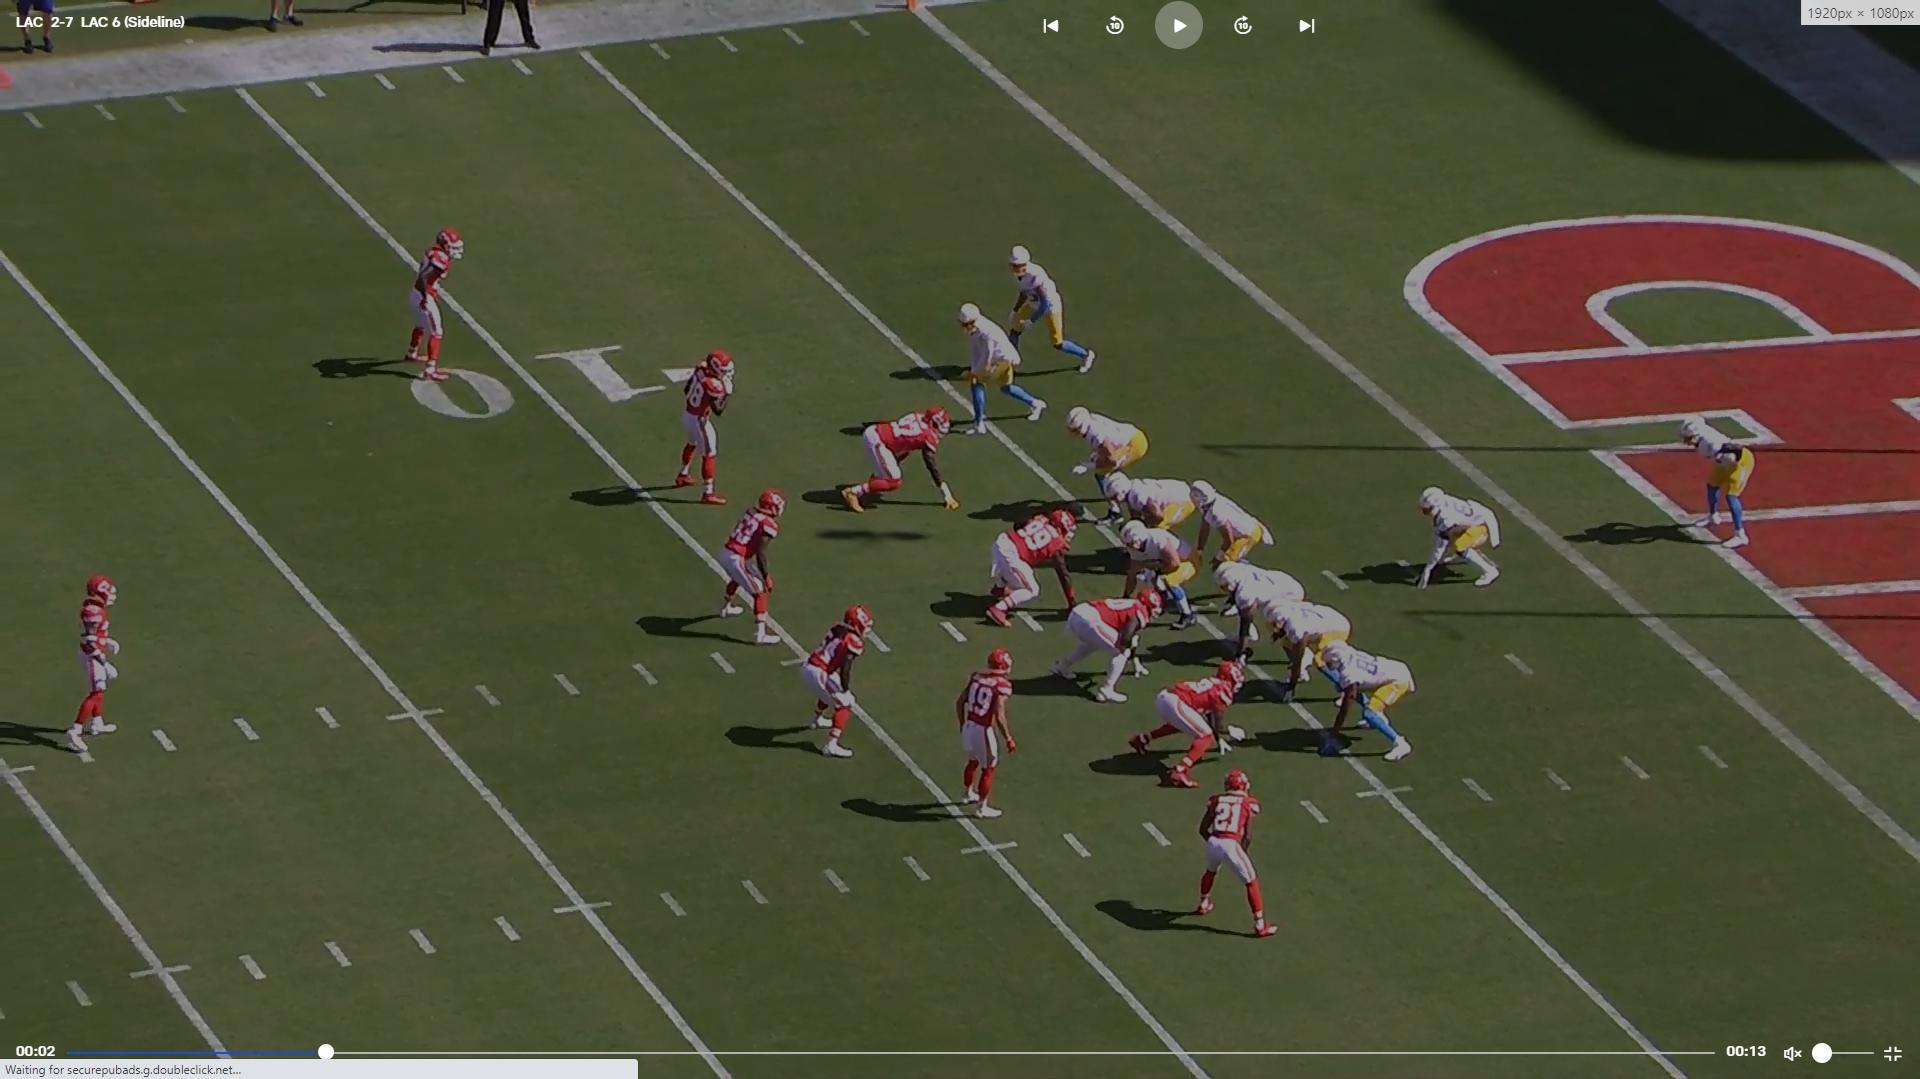player: (1131, 664, 1252, 793), (1197, 760, 1279, 935), (988, 502, 1091, 634), (1049, 587, 1161, 706), (1007, 242, 1102, 381), (1319, 641, 1420, 770), (959, 298, 1056, 432), (839, 404, 956, 514), (55, 568, 119, 758), (711, 489, 783, 654), (960, 645, 1026, 823), (804, 599, 872, 760), (1213, 558, 1307, 674), (1681, 410, 1757, 552), (668, 345, 735, 503), (402, 222, 467, 383), (1417, 481, 1508, 595), (1262, 590, 1350, 703), (1117, 520, 1203, 629), (1192, 479, 1280, 570), (1092, 470, 1201, 536), (1062, 402, 1147, 483)
ref: (474, 0, 551, 56)
